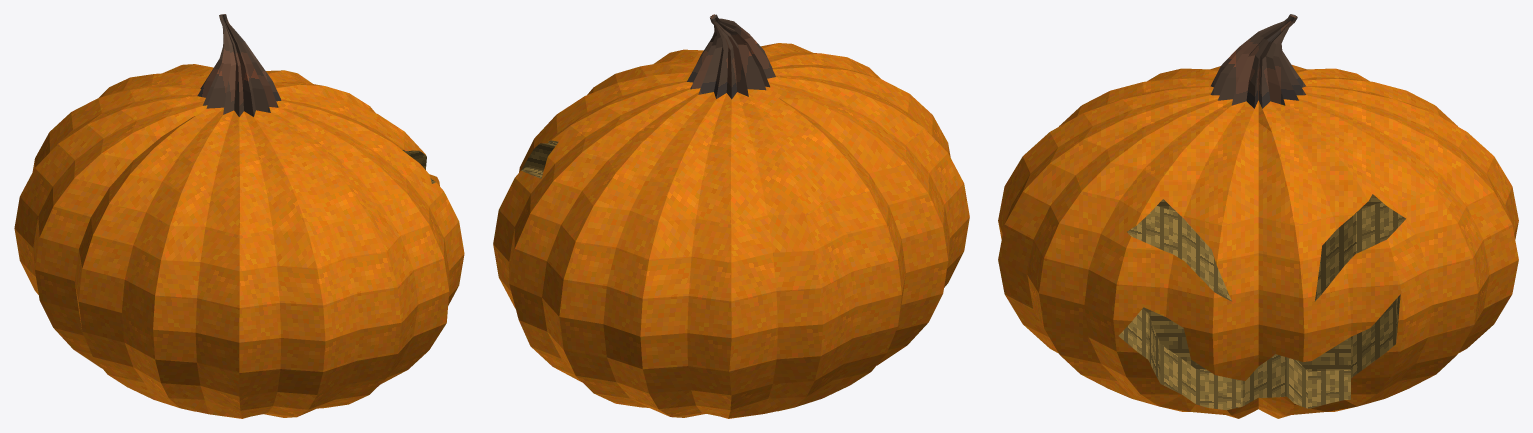
File: largepumpkin.obj
3 renders of one model, left to right at view 1: azimuth 30°, elevation 25°; view 2: azimuth 150°, elevation 25°; view 3: azimuth 270°, elevation 25°, orthographic. The views are drawn at different scales.
Parts seen in each view (by area): view 1: Sphere.000_Sphere.002, Sphere.002_Sphere.003; view 2: Sphere.000_Sphere.002, Sphere.002_Sphere.003, Sphere.001; view 3: Sphere.000_Sphere.002, Sphere.001, Sphere.002_Sphere.003.
Boxes of the visible parts, x1=… form: Sphere.000_Sphere.002: x1=14, y1=64, x2=464, y2=418; Sphere.002_Sphere.003: x1=197, y1=14, x2=281, y2=116; Sphere.000_Sphere.002: x1=493, y1=43, x2=969, y2=418; Sphere.002_Sphere.003: x1=687, y1=14, x2=775, y2=99; Sphere.001: x1=521, y1=140, x2=558, y2=178; Sphere.000_Sphere.002: x1=998, y1=65, x2=1518, y2=418; Sphere.001: x1=1118, y1=194, x2=1405, y2=410; Sphere.002_Sphere.003: x1=1210, y1=14, x2=1306, y2=108.
Size of the model in its own units: 2.46 by 2.32 by 2.9.
